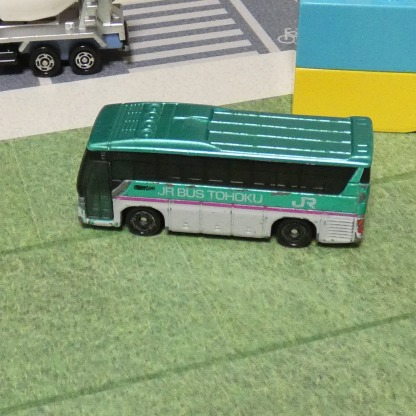car: (84, 98, 370, 251), (0, 0, 140, 76)
